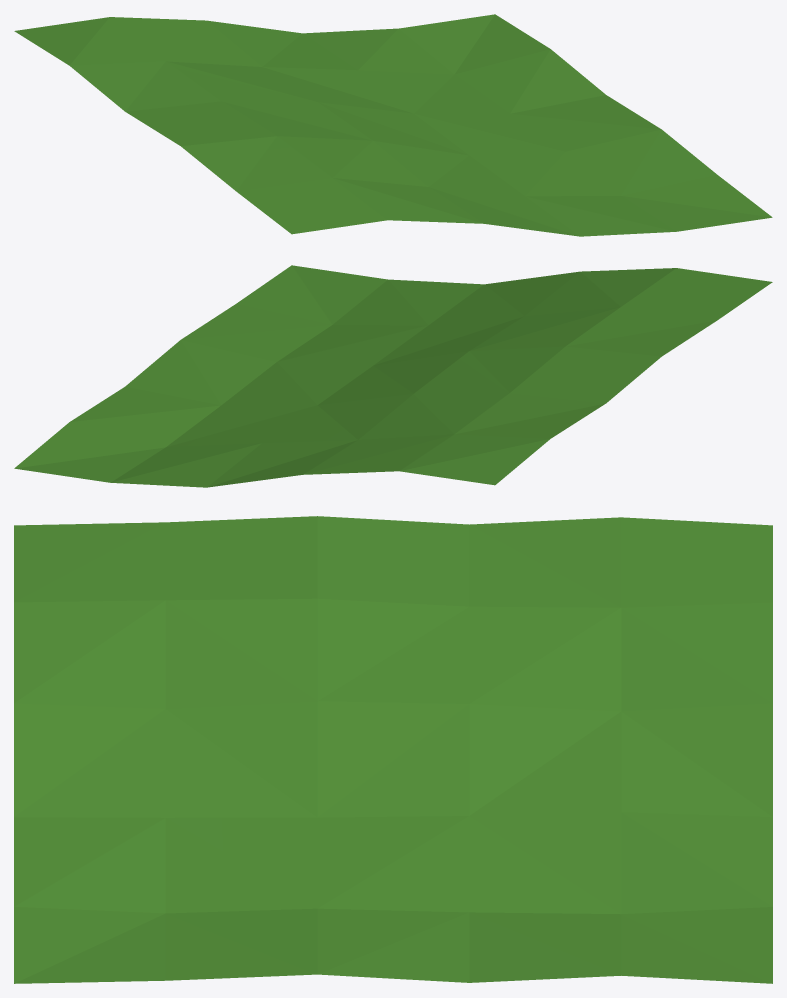
File: terrain-plane-slope3.glb
The picture shows the model from 3 angles, top to bottom: view 1: azimuth 30°, elevation 25°; view 2: azimuth 150°, elevation 25°; view 3: azimuth 270°, elevation 25°; orthographic projection. The views are drawn at different scales.
Visible parts, largest first — view 1: terrain-plane-slope3; view 2: terrain-plane-slope3; view 3: terrain-plane-slope3.
Boxes of the visible parts, x1,y1,x2,y2 form: terrain-plane-slope3: [14, 14, 772, 236]; terrain-plane-slope3: [14, 265, 772, 487]; terrain-plane-slope3: [14, 516, 772, 983].
Bounding box in the file's own units: 30.01 × 6.4 × 30.
1 material, 1 textured.
